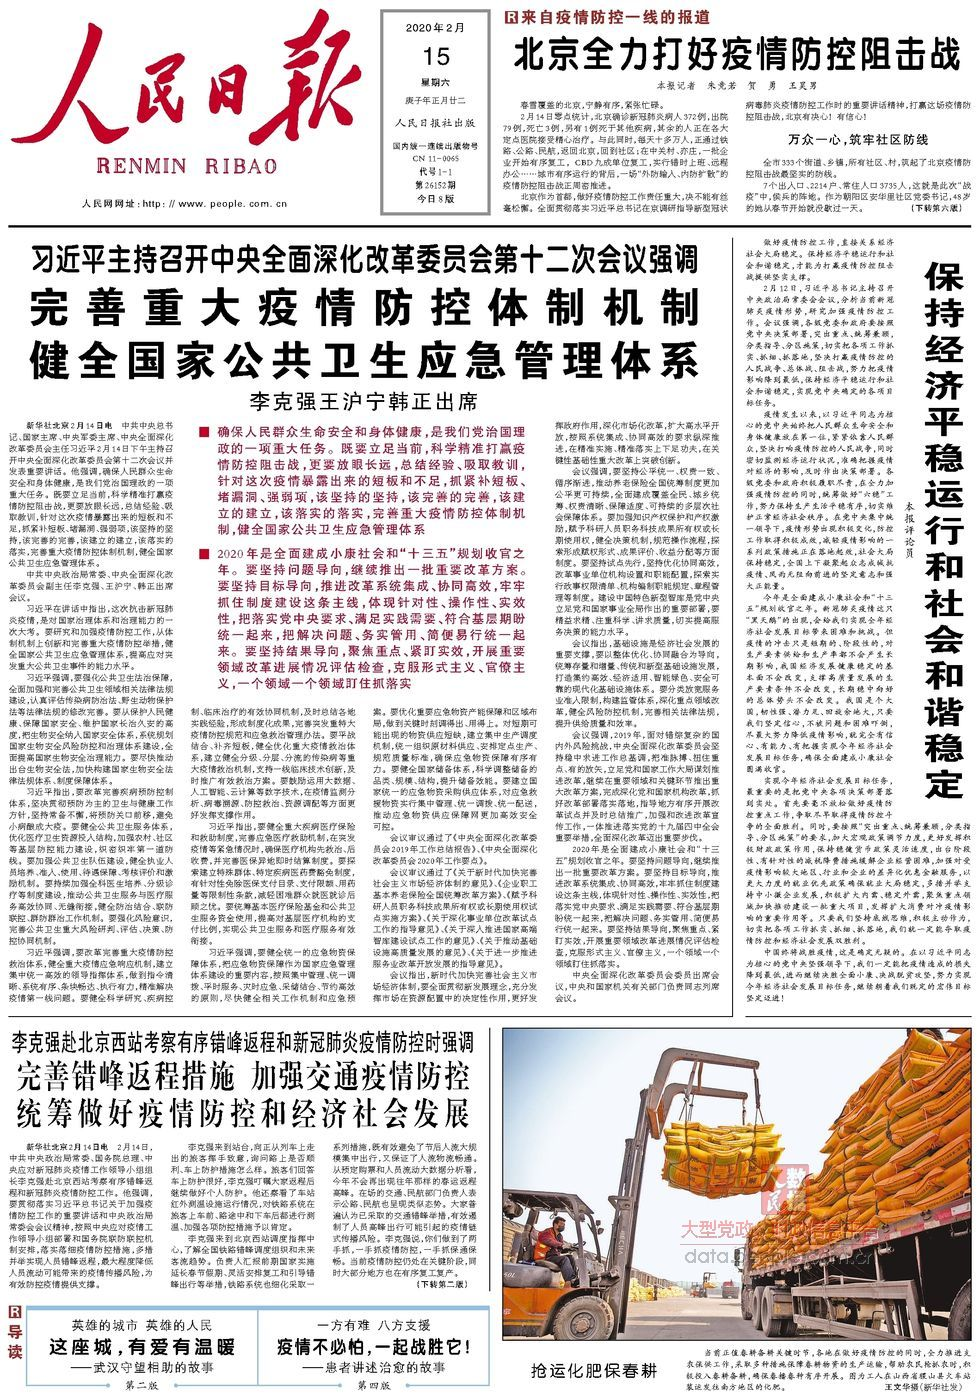pic: (497, 1023, 975, 1345)
